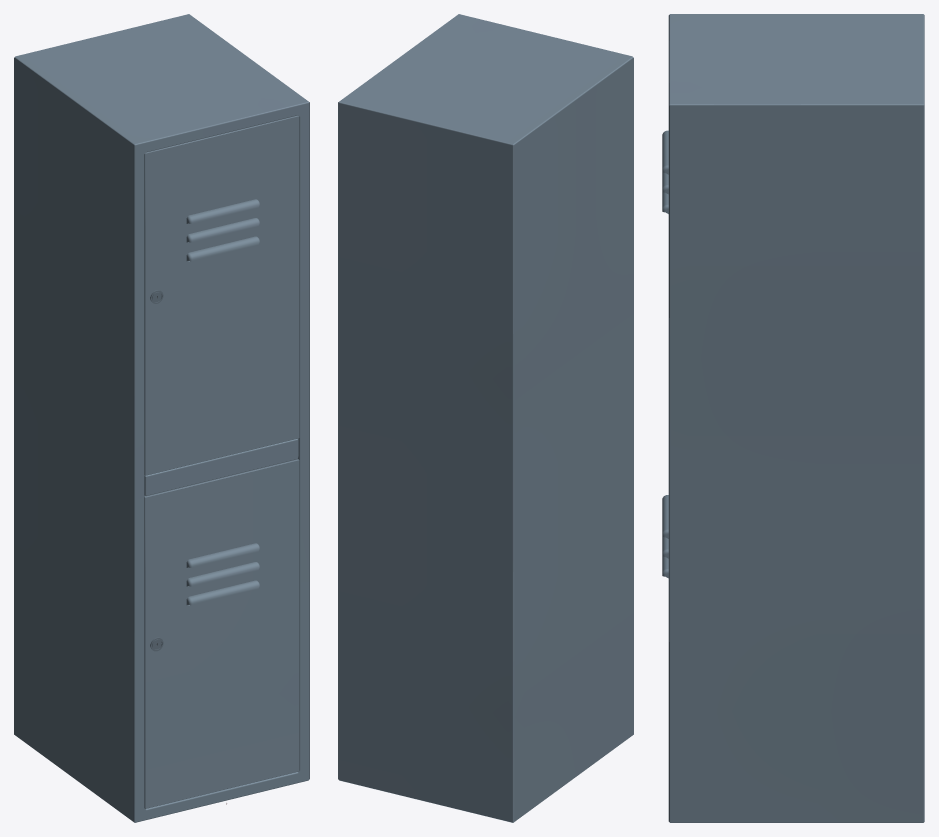
The model's file is SM_Locker_Open_V2.fbx.
The picture shows the model from 3 angles, left to right: view 1: azimuth 30°, elevation 25°; view 2: azimuth 150°, elevation 25°; view 3: azimuth 270°, elevation 25°; orthographic projection. The views are drawn at different scales.
Visible parts, largest first — view 1: SM_Locker_Open_V2, SM_Locker_DoorTop_V2, SM_Locker_DoorBottom_V2; view 2: SM_Locker_Open_V2; view 3: SM_Locker_Open_V2, SM_Locker_DoorTop_V2, SM_Locker_DoorBottom_V2.
Part boxes in pixels (x1=…): SM_Locker_Open_V2: x1=14, y1=14, x2=309, y2=822; SM_Locker_DoorTop_V2: x1=144, y1=115, x2=299, y2=475; SM_Locker_DoorBottom_V2: x1=144, y1=459, x2=299, y2=808; SM_Locker_Open_V2: x1=338, y1=14, x2=633, y2=822; SM_Locker_Open_V2: x1=668, y1=14, x2=924, y2=822; SM_Locker_DoorTop_V2: x1=662, y1=130, x2=668, y2=213; SM_Locker_DoorBottom_V2: x1=662, y1=495, x2=668, y2=578.
Size of the model in its own units: 58.47 by 217 by 71.27.
